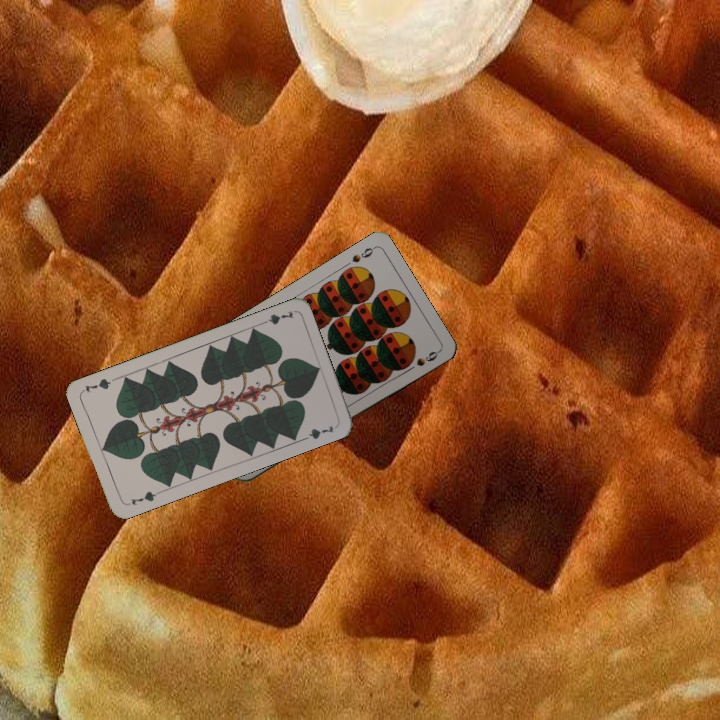G7: (256, 307, 296, 328), (122, 487, 162, 508)
S9: (347, 243, 377, 265)
